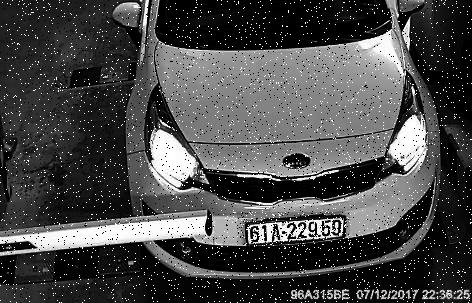License-plate: (239, 213, 353, 251)
